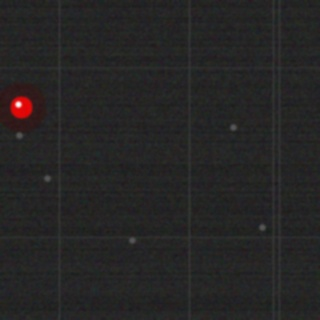red_fault: (8, 94, 34, 120)
